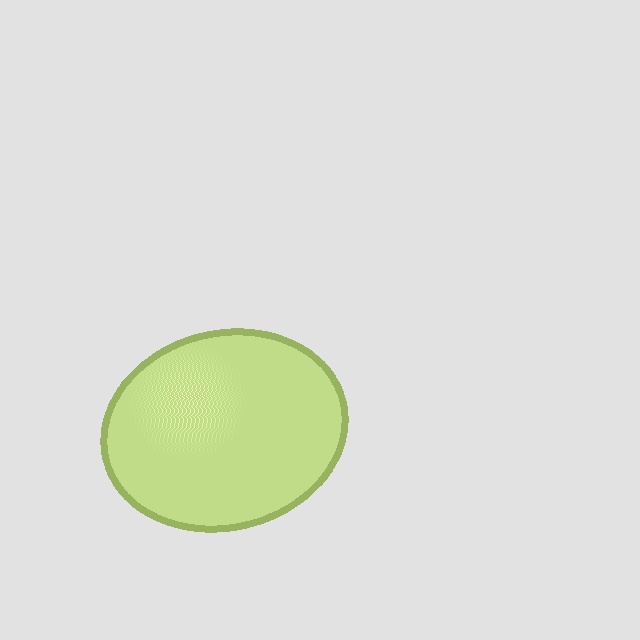lens: (104, 331, 344, 529)
